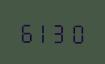one: (35, 19, 51, 43)
six: (18, 19, 34, 43)
three: (52, 20, 68, 44)
zero: (69, 20, 85, 44)
